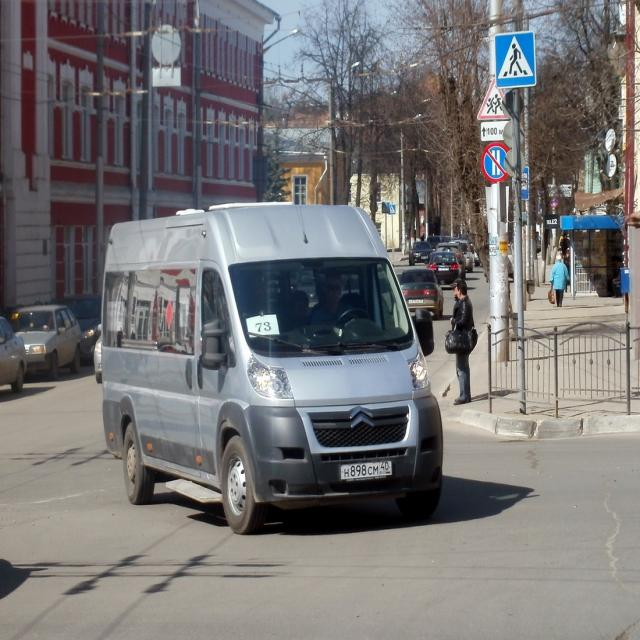number-of-bus: (247, 319, 280, 336)
